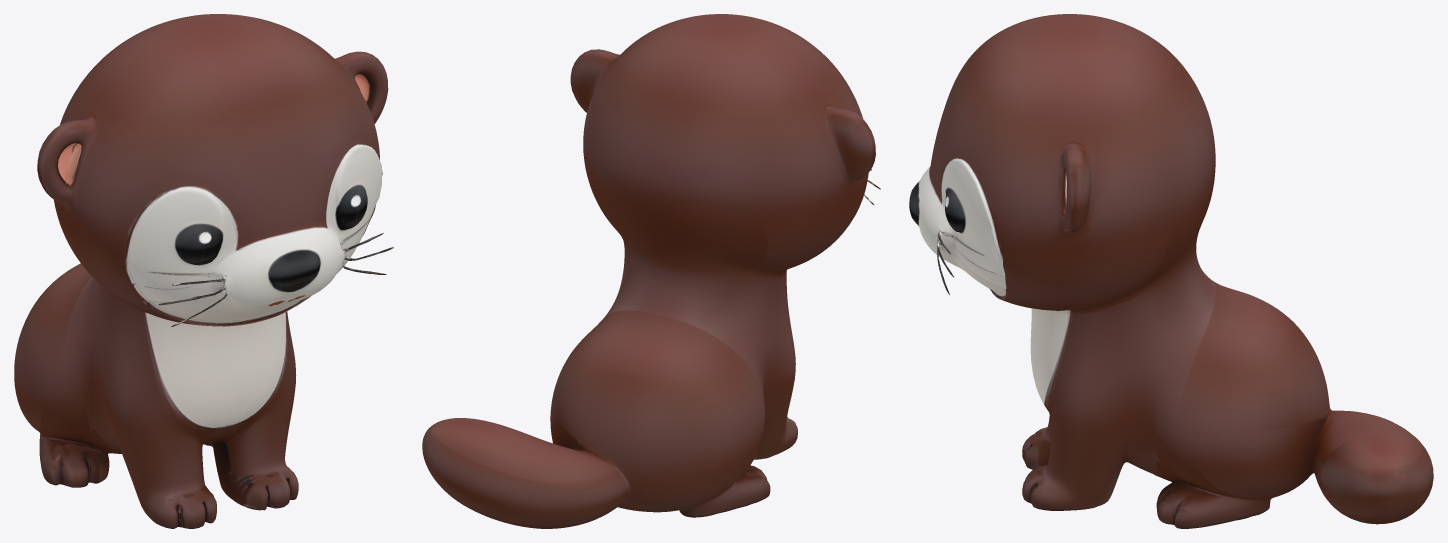
File: europeanMink.glb
3 views of the same model, side by side, from view 1: azimuth 30°, elevation 25°; view 2: azimuth 150°, elevation 25°; view 3: azimuth 270°, elevation 25° (orthographic). The views are drawn at different scales.
Visible parts, largest first — view 1: model; view 2: model; view 3: model.
Boxes of the visible parts, bbox=[...] form: model: bbox=[14, 14, 393, 528]; model: bbox=[422, 14, 880, 528]; model: bbox=[909, 14, 1433, 528].
Bounding box in the file's own units: 1.38 × 1.75 × 1.85.
Materials: 1 (1 with a texture image).
